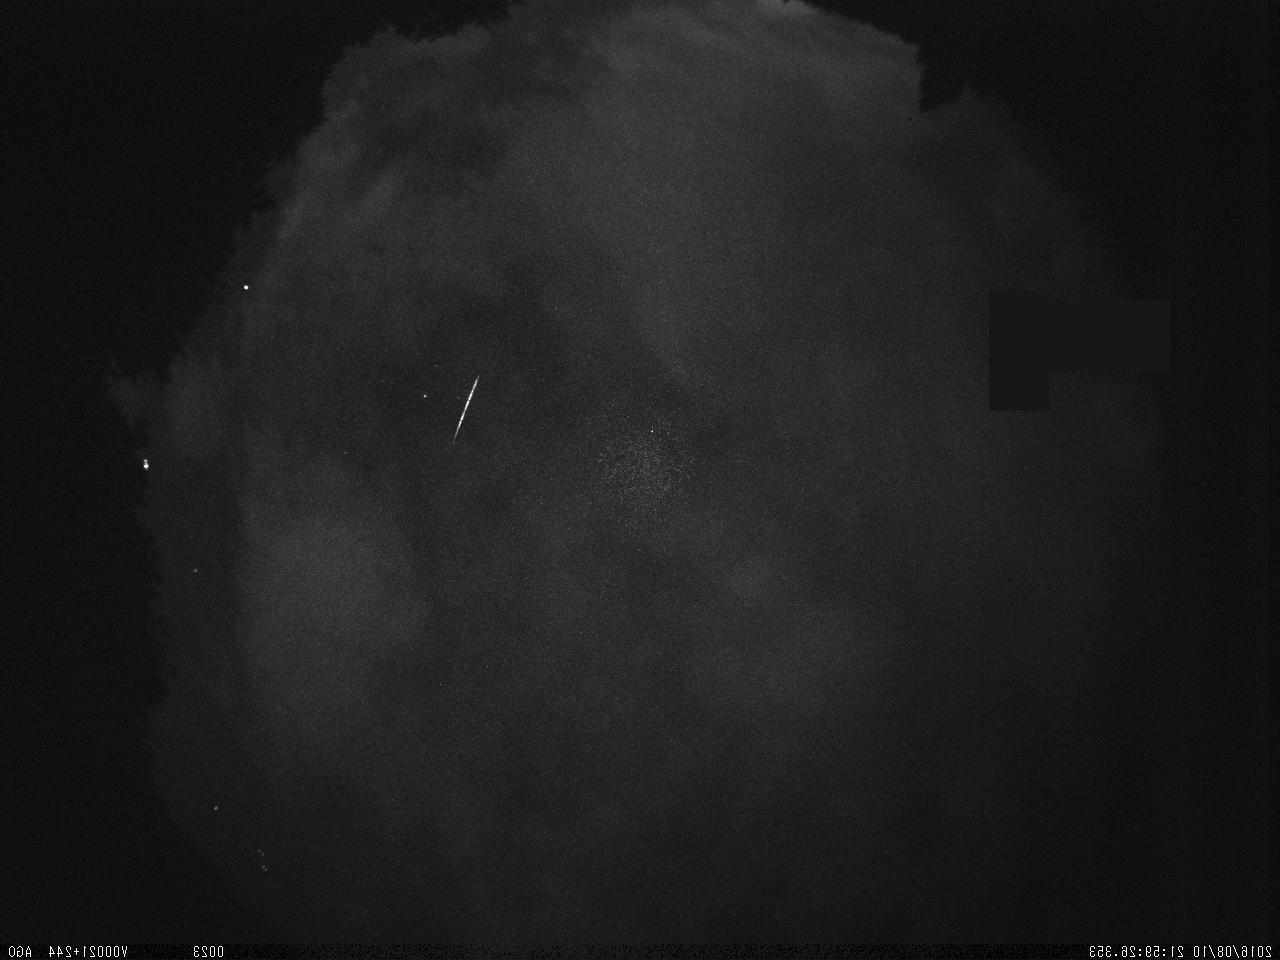meteor: (446, 368, 487, 450)
